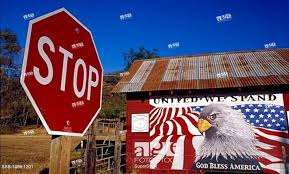Stop: (45, 14, 114, 138)
